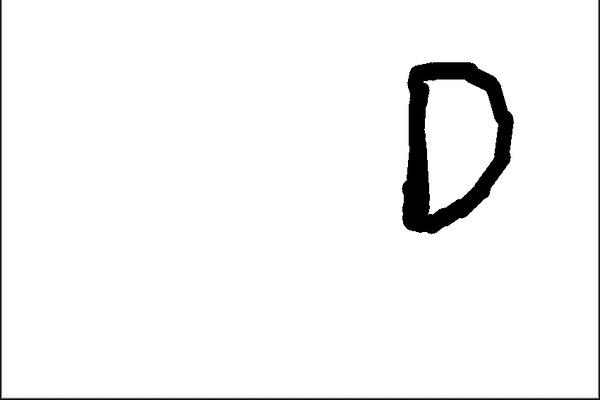D: (399, 54, 515, 237)
